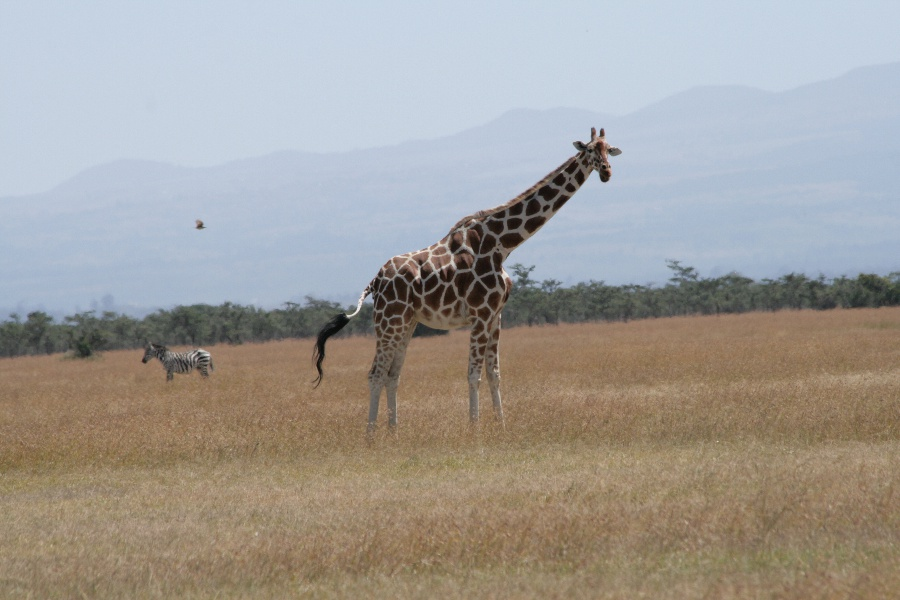giraffe: (356, 119, 636, 448)
